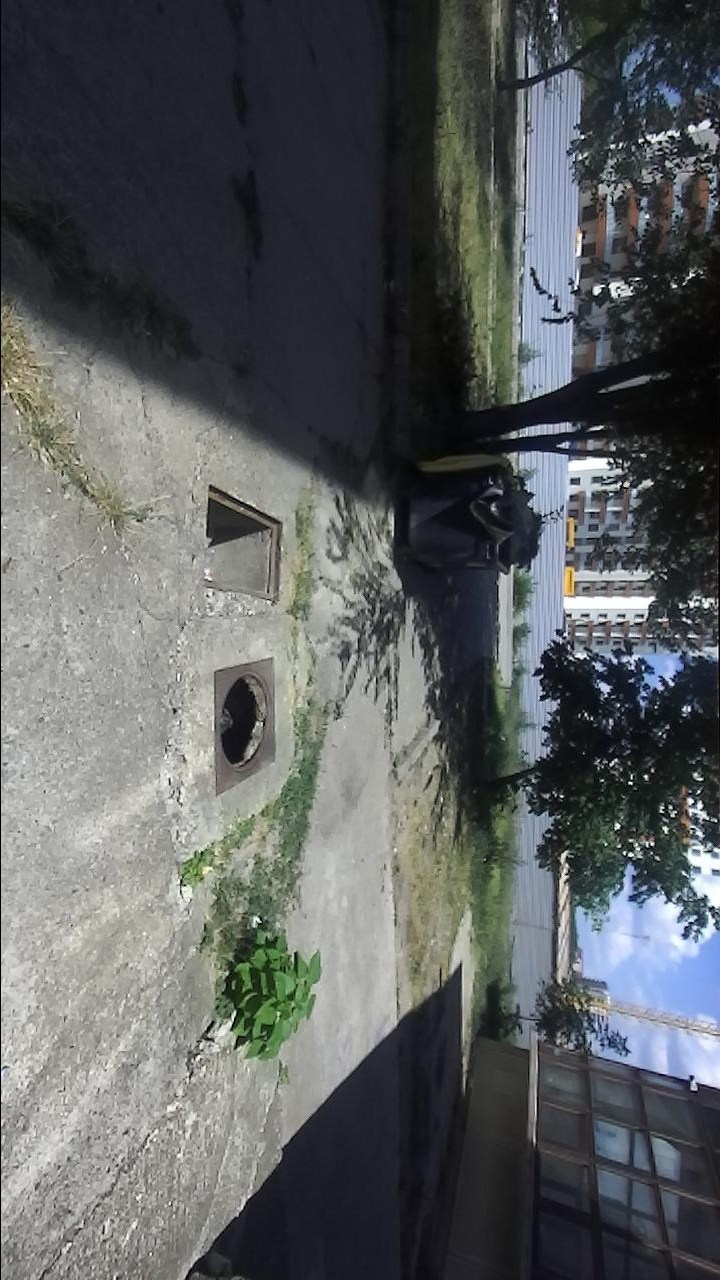drain: (200, 483, 286, 608), (216, 670, 272, 775)
